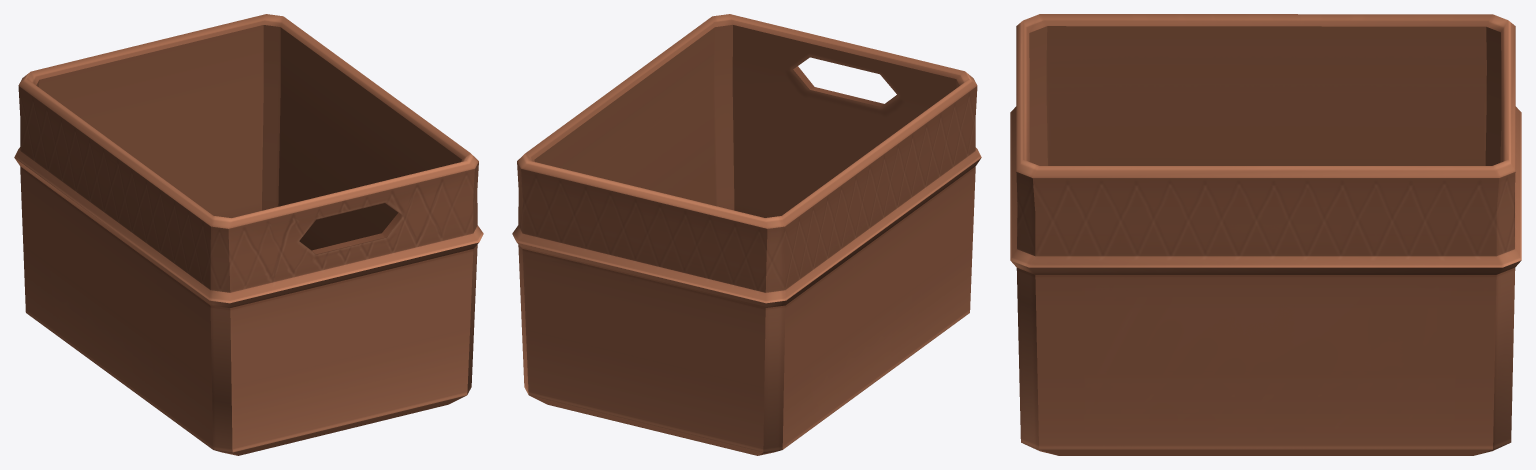
Rendered from bathroom_container.fbx.
3 renders of one model, left to right at view 1: azimuth 30°, elevation 25°; view 2: azimuth 150°, elevation 25°; view 3: azimuth 270°, elevation 25°, orthographic. The views are drawn at different scales.
Visible parts, largest first — view 1: bathroom_container; view 2: bathroom_container; view 3: bathroom_container.
Part boxes in pixels (box(x1,y1,x2,y2)): bathroom_container: box(14, 14, 483, 455); bathroom_container: box(512, 14, 981, 455); bathroom_container: box(1010, 14, 1521, 455).
Size of the model in its own units: 43.24 by 37.11 by 57.69.
